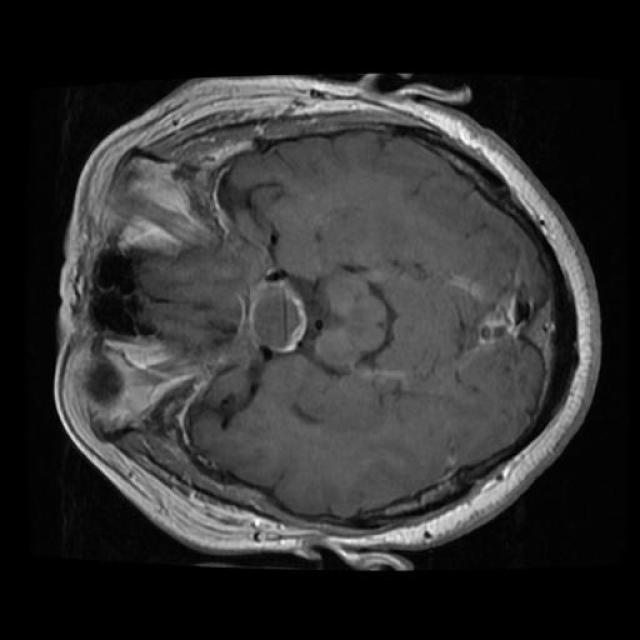Pituitary: (248, 268, 308, 359)
